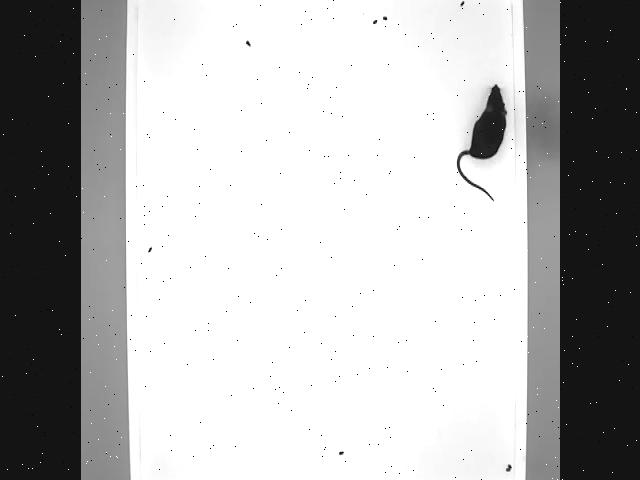Tikus: (452, 80, 510, 204)
